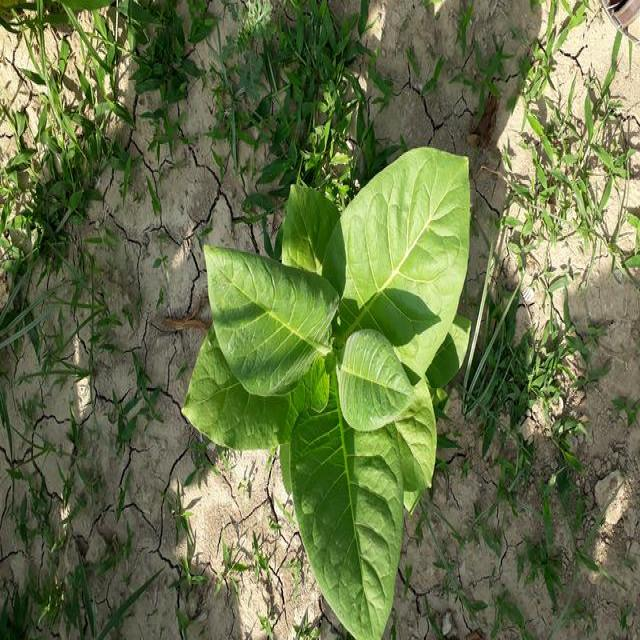crop: (189, 147, 480, 640)
